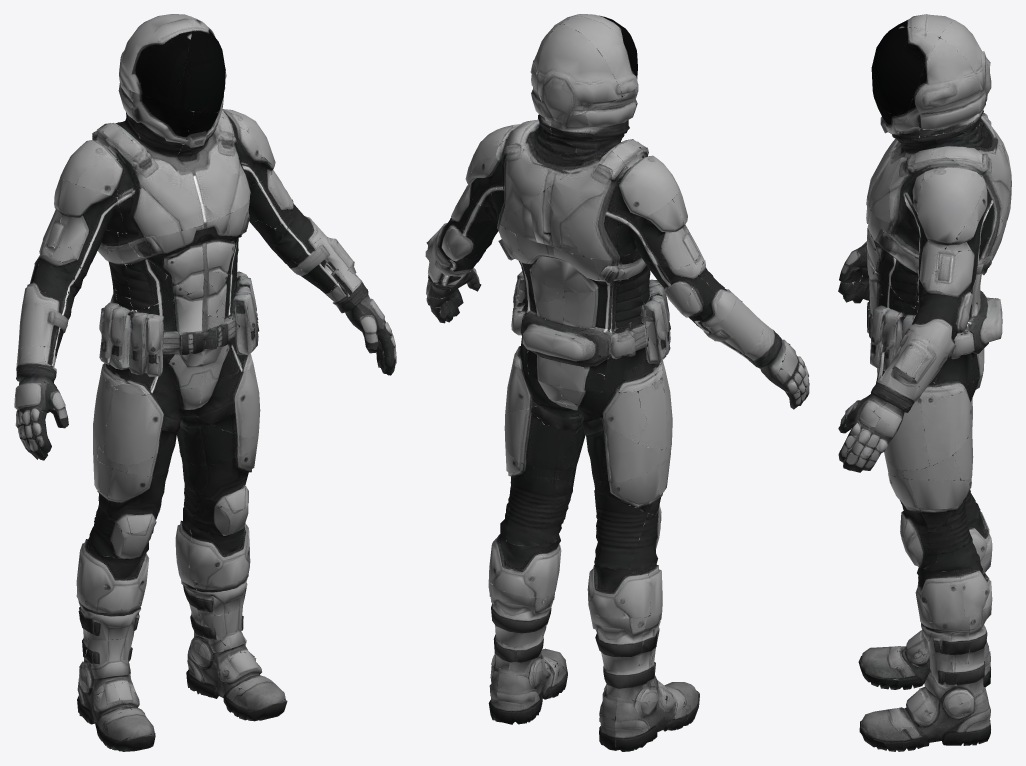
Rendered from player-male.glb.
3 views of the same model, side by side, from view 1: azimuth 30°, elevation 25°; view 2: azimuth 150°, elevation 25°; view 3: azimuth 270°, elevation 25° (orthographic).
Visible parts, largest first — view 1: mesh_node; view 2: mesh_node; view 3: mesh_node.
Part boxes in pixels (left/top/right/bottom): mesh_node: left=14, top=14, right=396, bottom=751; mesh_node: left=425, top=14, right=809, bottom=751; mesh_node: left=838, top=14, right=1011, bottom=751.
Bounding box in the file's own units: 1.03 × 1.85 × 0.4217.
Materials: 1 (1 with a texture image).
